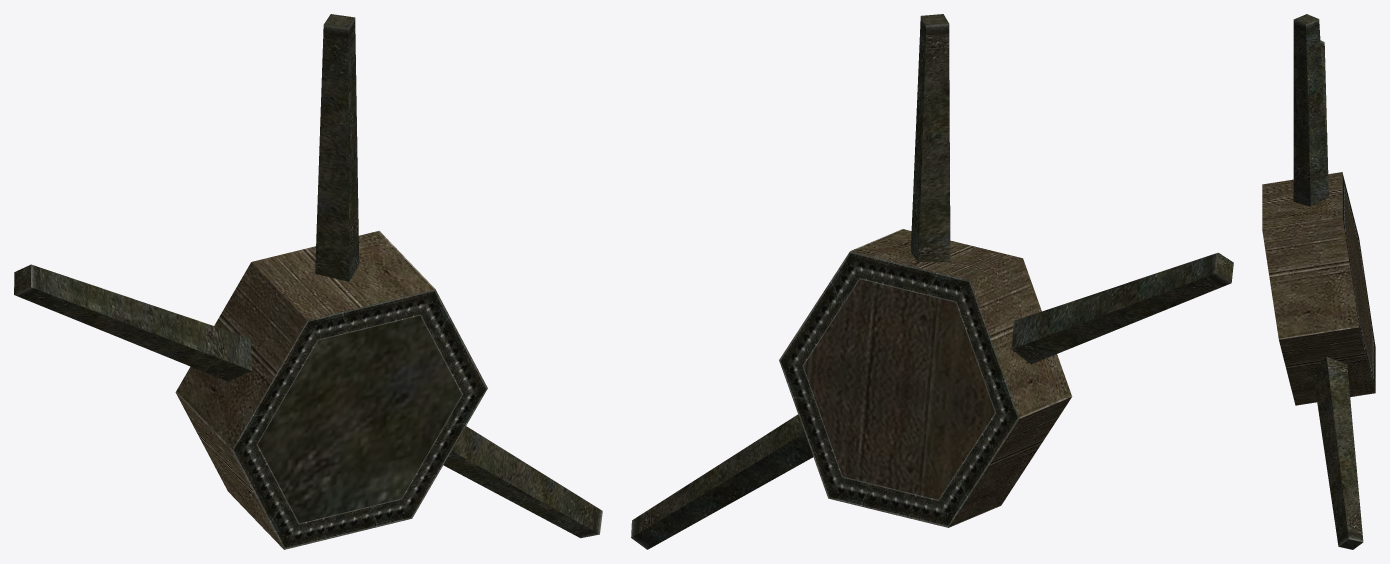
File: KOLOWROT.glb
3 renders of one model, left to right at view 1: azimuth 30°, elevation 25°; view 2: azimuth 150°, elevation 25°; view 3: azimuth 270°, elevation 25°, orthographic. The views are drawn at different scales.
Visible parts, largest first — view 1: KOLOWROT; view 2: KOLOWROT; view 3: KOLOWROT.
Part boxes in pixels (x1,y1,x2,y2): KOLOWROT: [14, 14, 602, 549]; KOLOWROT: [631, 14, 1233, 549]; KOLOWROT: [1262, 14, 1375, 549].
Bounding box in the file's own units: 0.4698 × 0.4449 × 0.1053.
2 materials, 2 textured.
